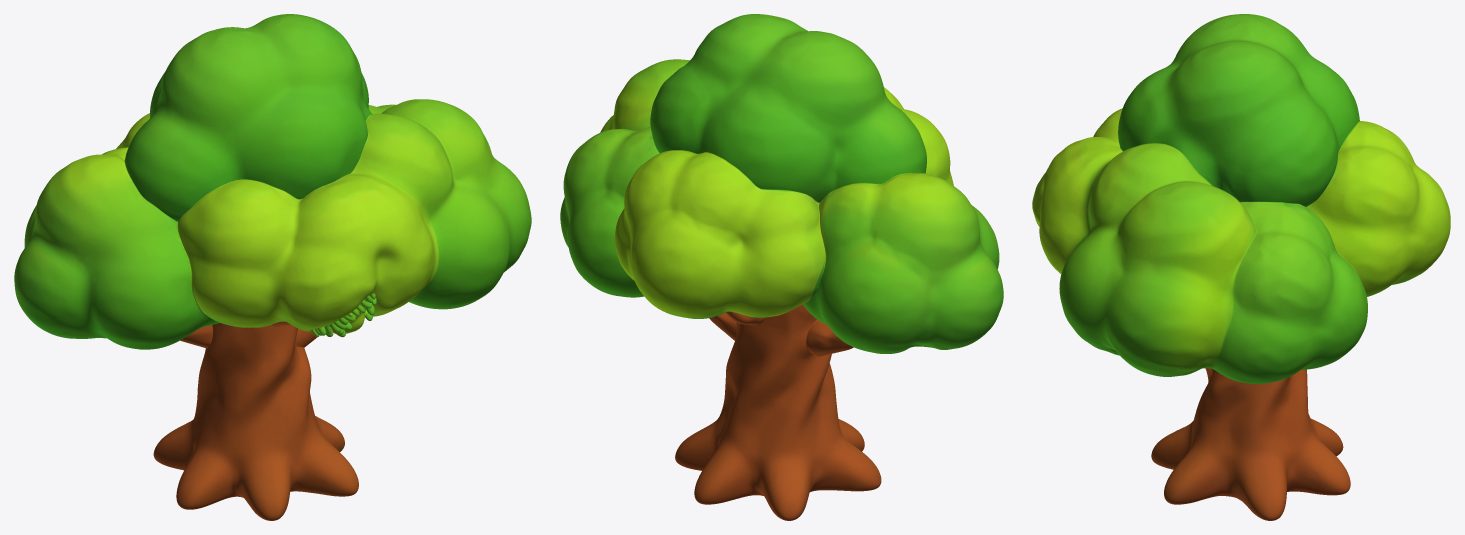
Rendered from arvore.glb.
3 renders of one model, left to right at view 1: azimuth 30°, elevation 25°; view 2: azimuth 150°, elevation 25°; view 3: azimuth 270°, elevation 25°, orthographic. The views are drawn at different scales.
Bounding box in the file's own units: 1.9 × 1.84 × 1.56.
1 material, 1 textured.
